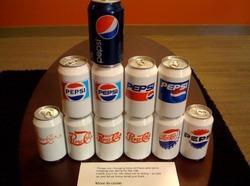pepsi: (94, 12, 118, 38), (94, 14, 118, 38), (65, 80, 85, 99), (98, 81, 117, 100), (190, 127, 208, 147), (171, 86, 185, 98), (145, 88, 153, 97)
